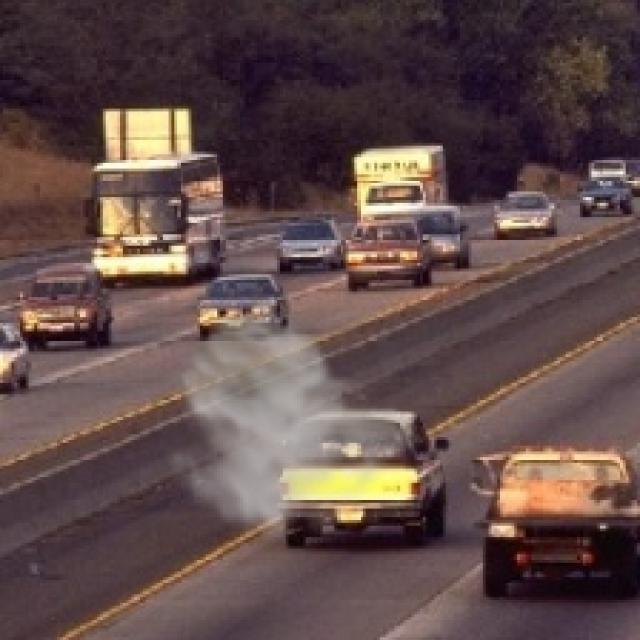Smoke: (152, 294, 428, 543)
